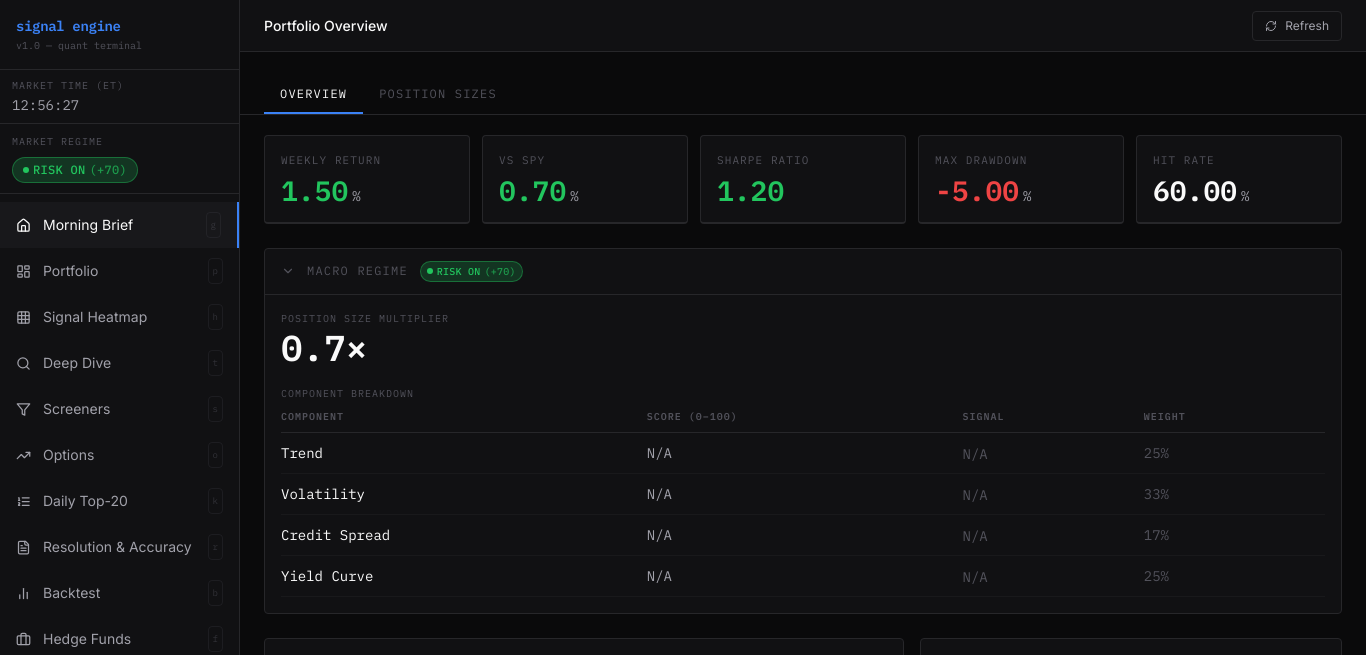
Test: PortfolioPage — Position Sizes section › c) Warning banner appears when any ticker exceeds 8% recommended weight
Click the tab "Position Sizes".
click(438, 95)  # box [363,76,513,114]
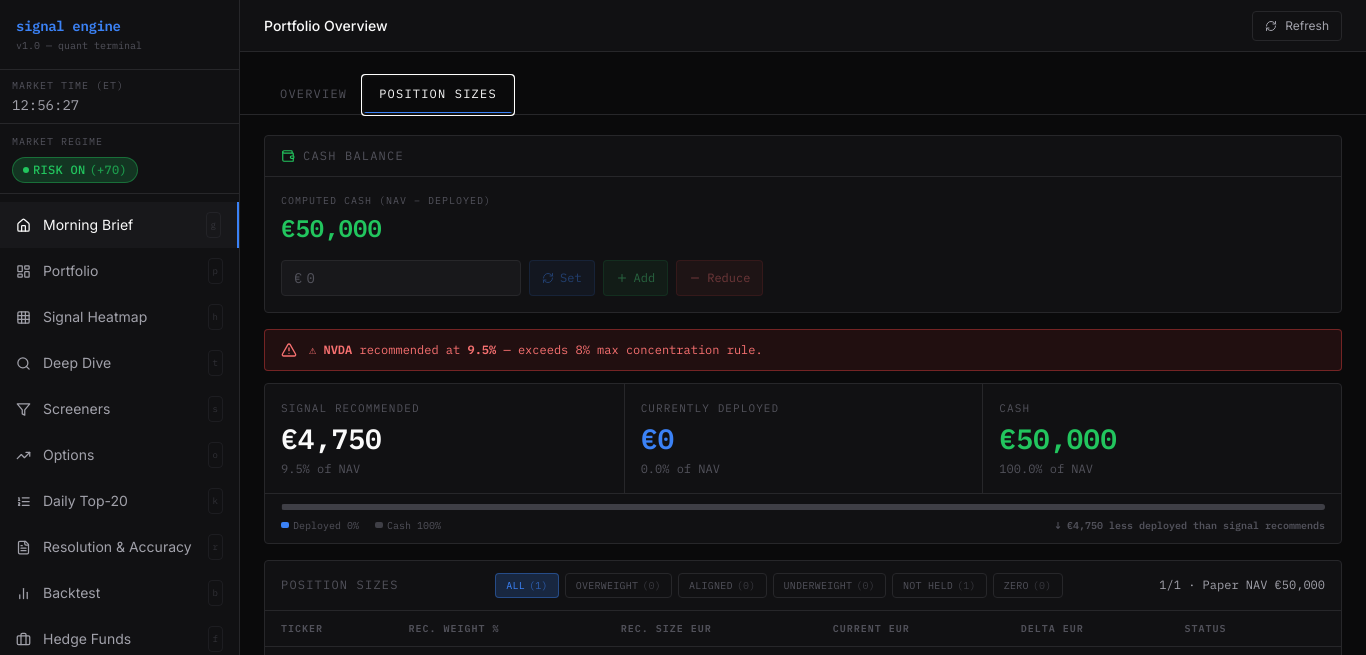
expect the message shows "NVDA": met, box [323,342,352,357]
expect the message shows "9.5%": met, box [264,329,1342,371]
expect the message shows "exceeds 8% max concentration rule": met, box [496,342,763,357]
